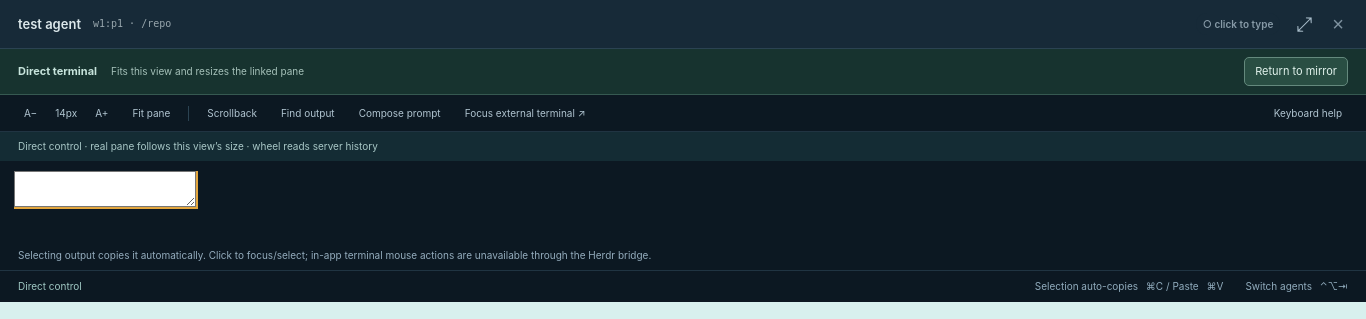
Test case: explicit Direct control mode › opens a dock-requested direct terminal at the available width and keeps mirror recovery available
Click the button "Return to mirror". click: [1296, 72]
box: [1244,57,1348,86]
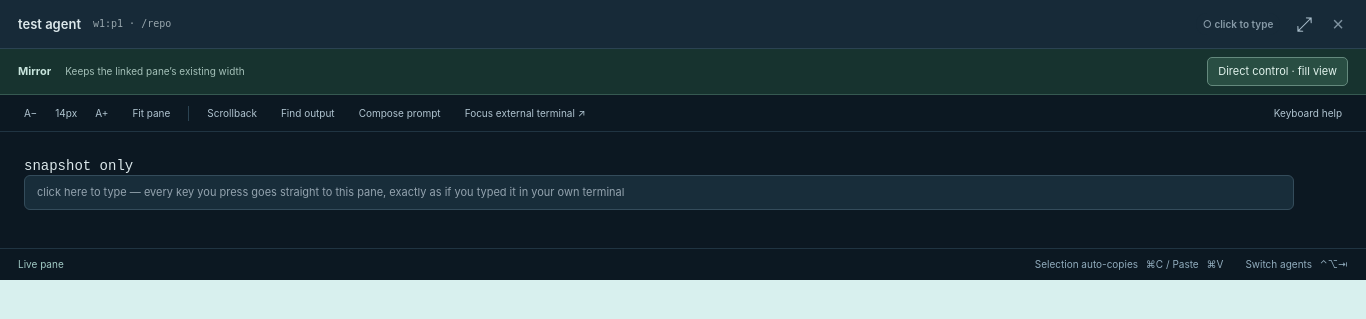
Check: the text "snapshot only" is shown, box [24,156,133,179]
